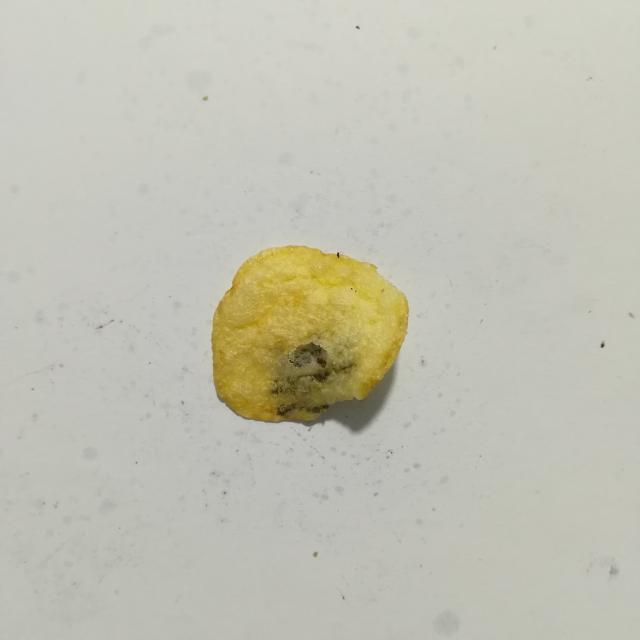chip: (211, 246, 409, 422)
damaged: (289, 342, 327, 368), (276, 402, 329, 417), (336, 252, 340, 258)
semi-damaged: (270, 332, 356, 407)
